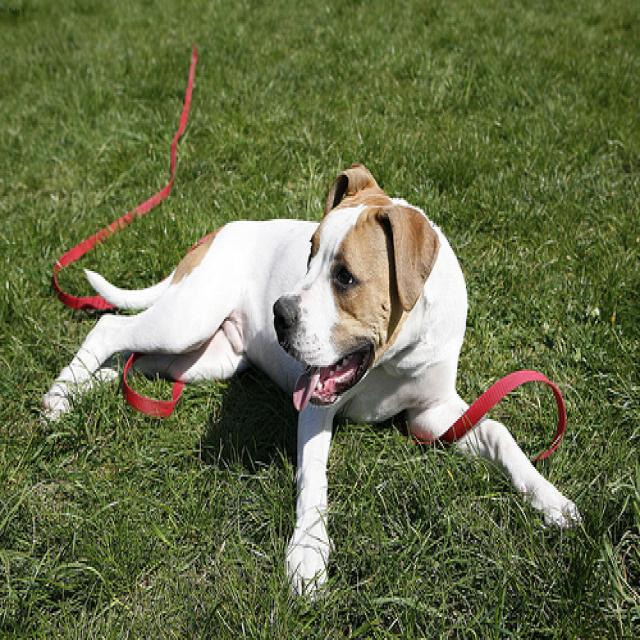dog-american_bulldog: (26, 146, 588, 603)
